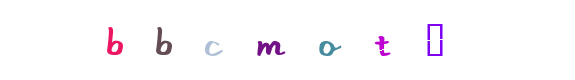1: (374, 0, 454, 80)
B: (73, 0, 153, 80), (122, 0, 202, 80)
C: (229, 0, 309, 80)
M: (236, 0, 316, 80)
O: (248, 0, 328, 80)
T: (269, 0, 349, 80)
